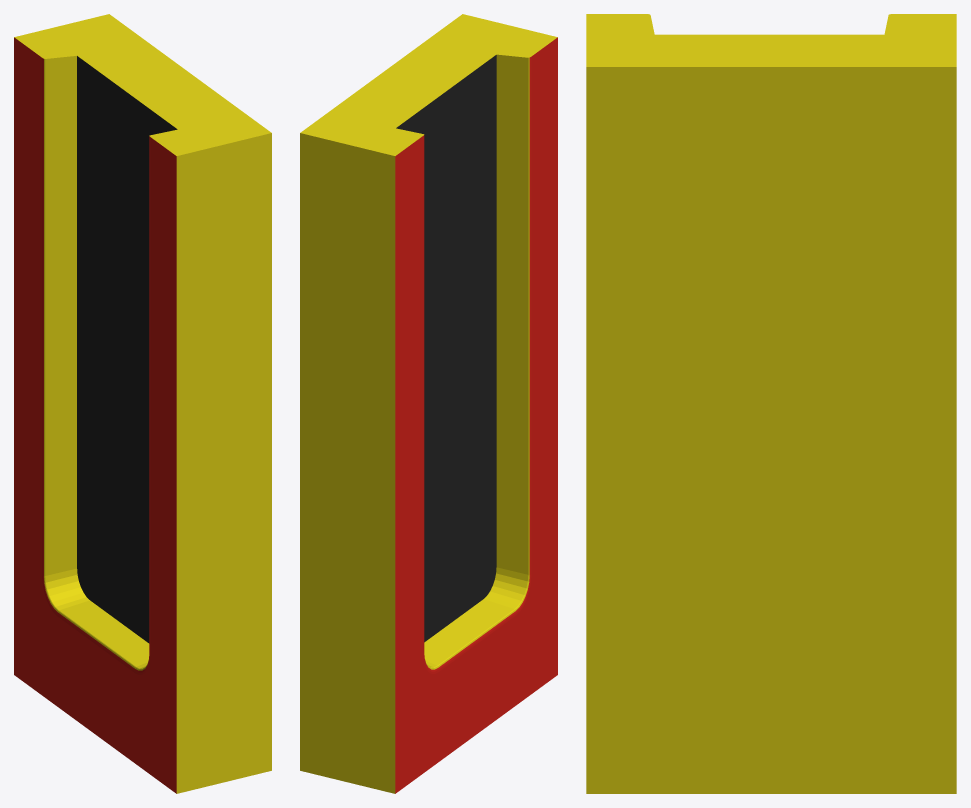
Rendered from bg_bak5.fbx.
3 views of the same model, side by side, from view 1: azimuth 30°, elevation 25°; view 2: azimuth 150°, elevation 25°; view 3: azimuth 270°, elevation 25° (orthographic). The views are drawn at different scales.
Visible parts, largest first — view 1: Cube; view 2: Cube; view 3: Cube.
Boxes of the visible parts, left/top/right/bottom form: Cube: left=14, top=14, right=271, bottom=793; Cube: left=300, top=14, right=557, bottom=793; Cube: left=586, top=14, right=956, bottom=793.
Size of the model in its own units: 200 by 1280 by 591.
